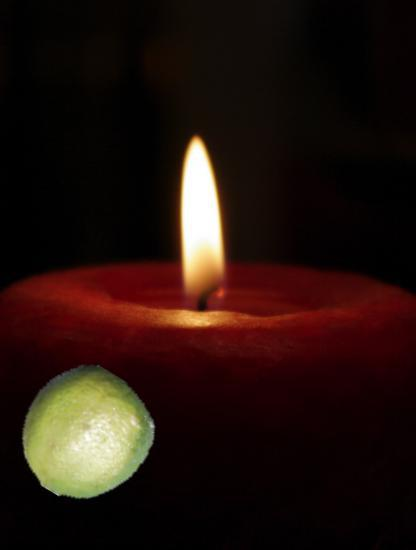Limes: (19, 368, 153, 502)
